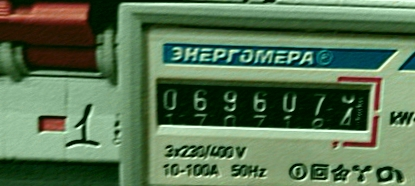0: (162, 85, 180, 110), (282, 87, 298, 113)
4: (339, 104, 356, 128)
6: (192, 86, 210, 111), (252, 87, 270, 112)
7: (312, 90, 328, 116)
9: (222, 87, 239, 112)
screen: (143, 63, 387, 144)
